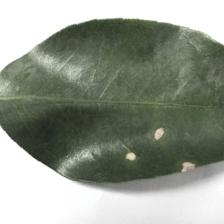canker: (114, 121, 198, 175)
